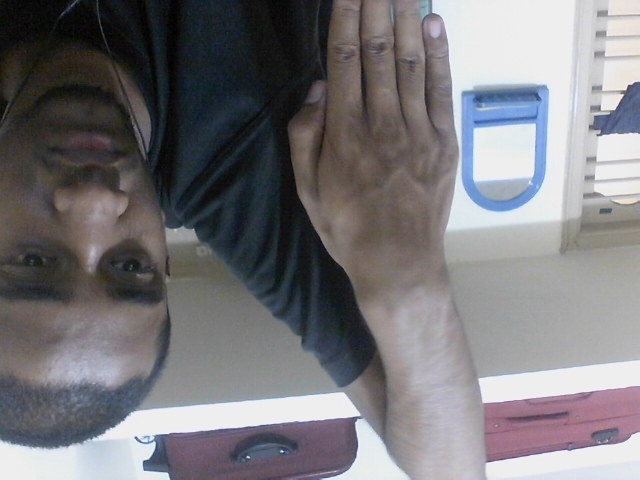hand: (281, 1, 462, 284)
